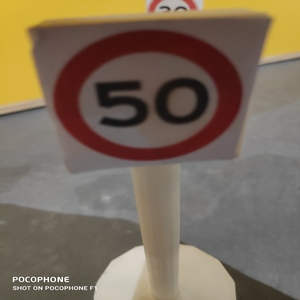50-bord: (51, 29, 246, 161)
